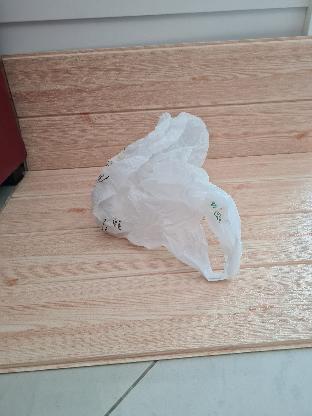Plastic Bag: (87, 105, 253, 293)
